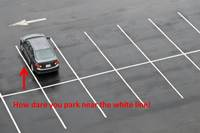car: (20, 33, 61, 76)
